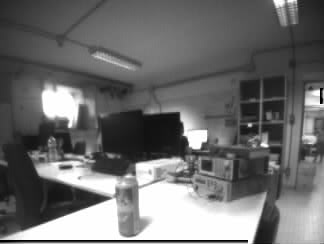Bottle: (47, 136, 55, 163)
Tin can: (115, 178, 140, 236)
